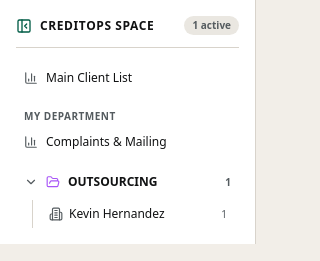
Test: the collapsed rail carries the same authorization as the tree › gives an agent the queue for the department they are actually in
This screenshot has width=320, height=261.
Click the button with aria-label "Collapse" at (85, 26), box [16,18,154,34]
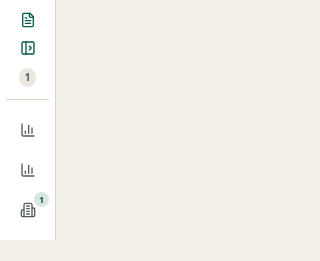
Expected: the button named "Complaints & Mailing" is shown, [6,152,49,188]
